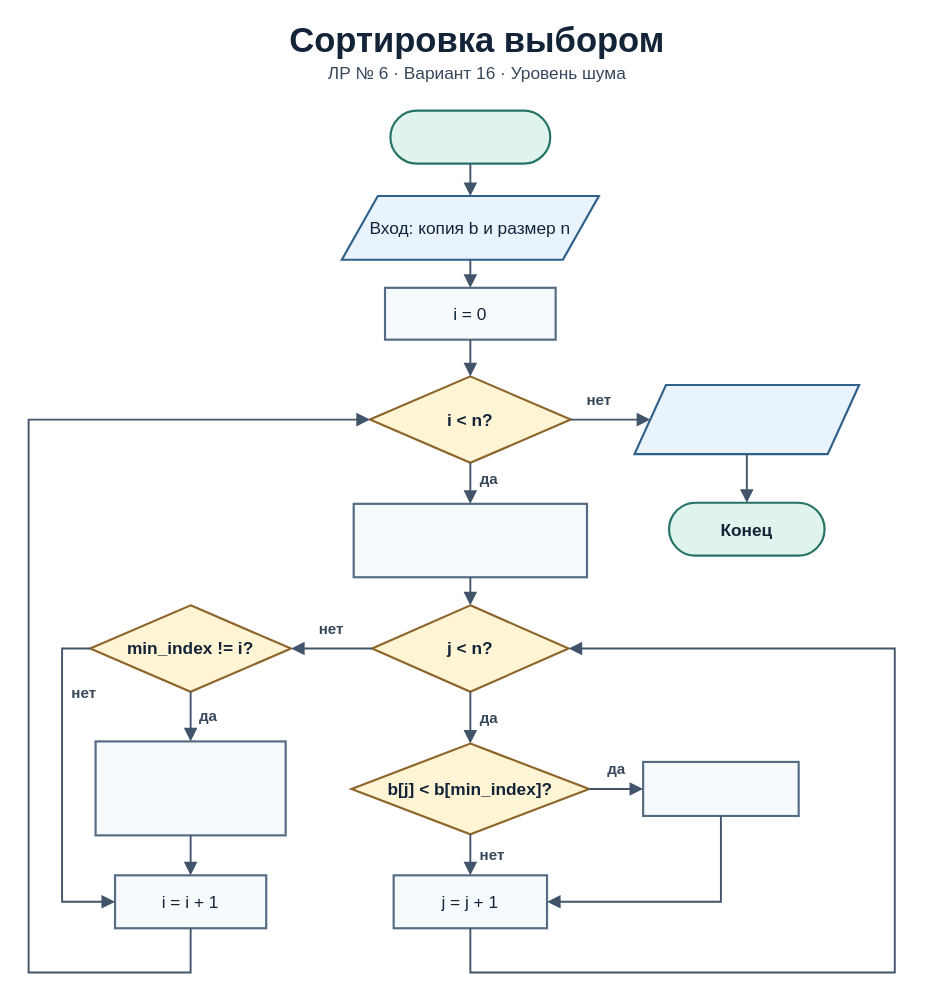
The diagram is 926 pixels wide and 1002 high, and some of its shapes have lost their labels. The box of each missing label's shape, as (x1, y1, x2, y2) in pixels:
min_index = i j = i: (352, 502, 588, 578)
min_index = j: (642, 760, 799, 816)
temp = b[i] b[i] = b[min_index] b[min_index] = temp: (94, 740, 286, 836)
Вывод массива b в main(): (633, 383, 860, 455)
Начало: (389, 109, 551, 164)
